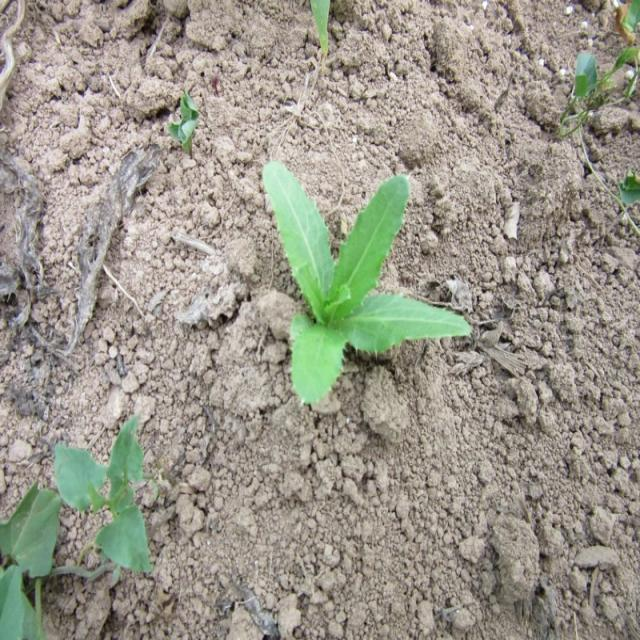field_thistle: (238, 167, 482, 431)
